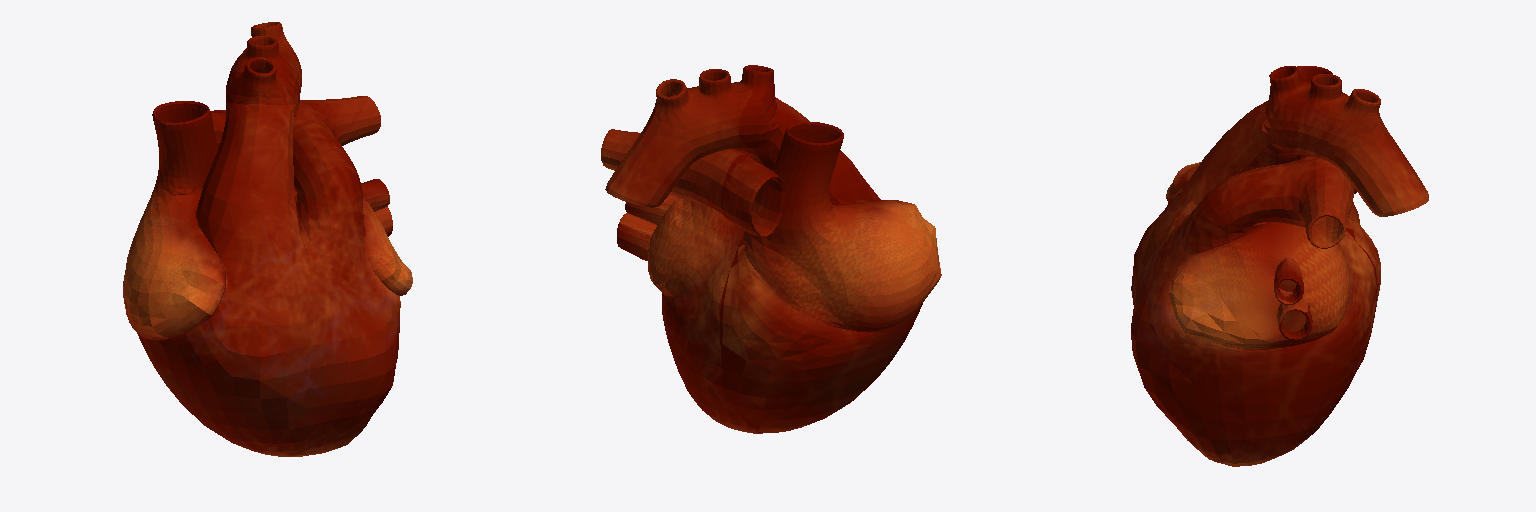
The picture shows the model from 3 angles: view 1: azimuth 30°, elevation 25°; view 2: azimuth 150°, elevation 25°; view 3: azimuth 270°, elevation 25°; orthographic projection.
Parts seen in each view (by area): view 1: (null); view 2: (null); view 3: (null).
Part boxes in pixels (x1,y1,x2,y2): (null): (123,22,412,456); (null): (601,65,941,433); (null): (1131,66,1428,466).
Size of the model in its own units: 12.42 by 16.28 by 11.5.
1 materials, 1 textured.